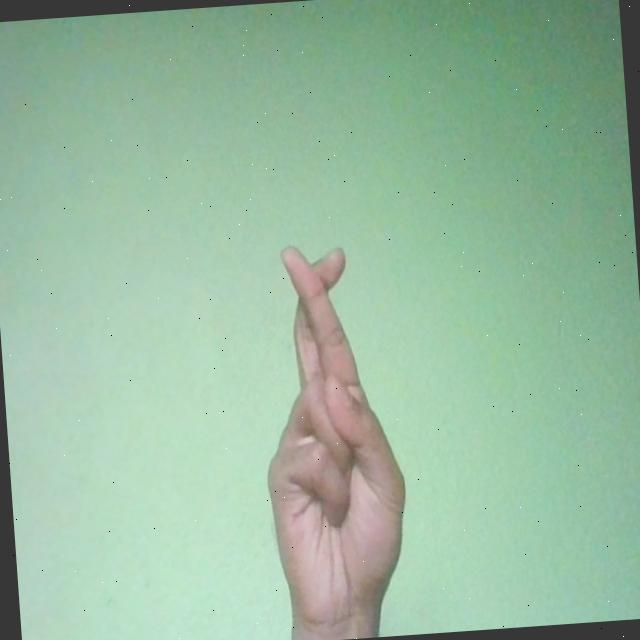Ok: (250, 235, 415, 638)
